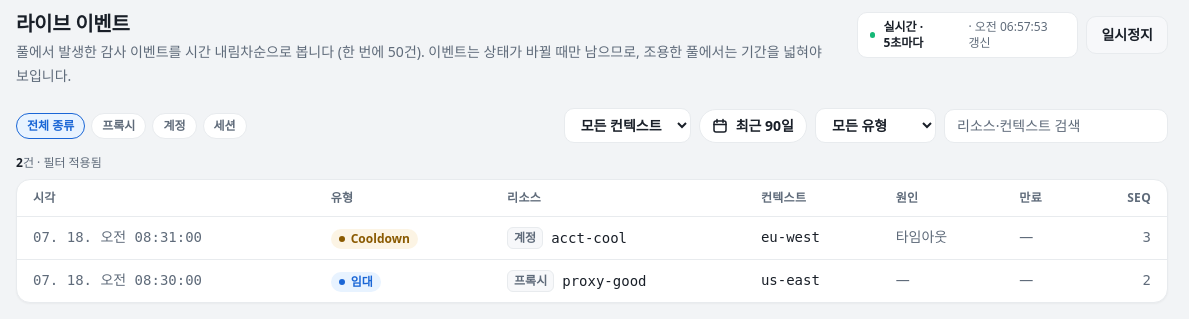
Test case: 라이브 이벤트 화면 (integration + MSW) › 일시정지 토글로 실시간 라벨이 바뀐다
This screenshot has width=1189, height=319.
Expected: the text "proxy-good" is shown, top-left (562, 271), bottom-right (646, 291)
Step 1. Click the button "일시정지" → (1127, 35), box top-left (1086, 16), bottom-right (1168, 54)
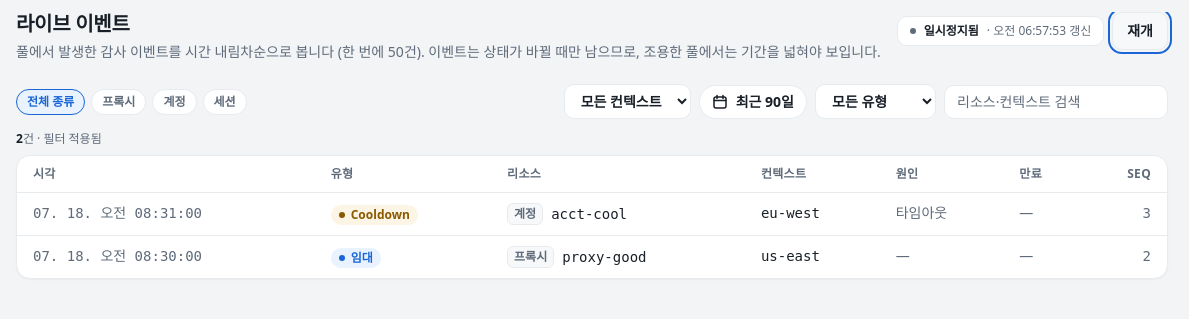
Expected: the text "일시정지됨" is shown, top-left (924, 23), bottom-right (979, 39)
